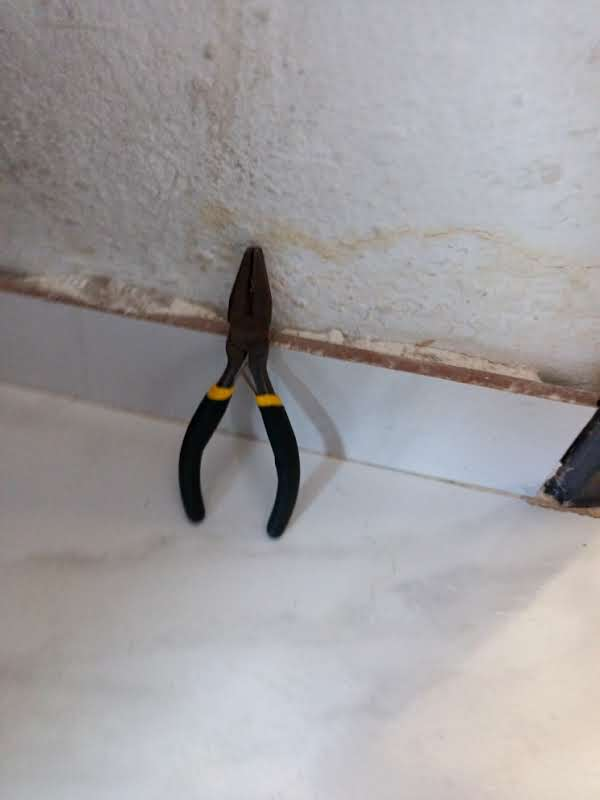Pinzas: (179, 243, 299, 537), (180, 246, 299, 537)
